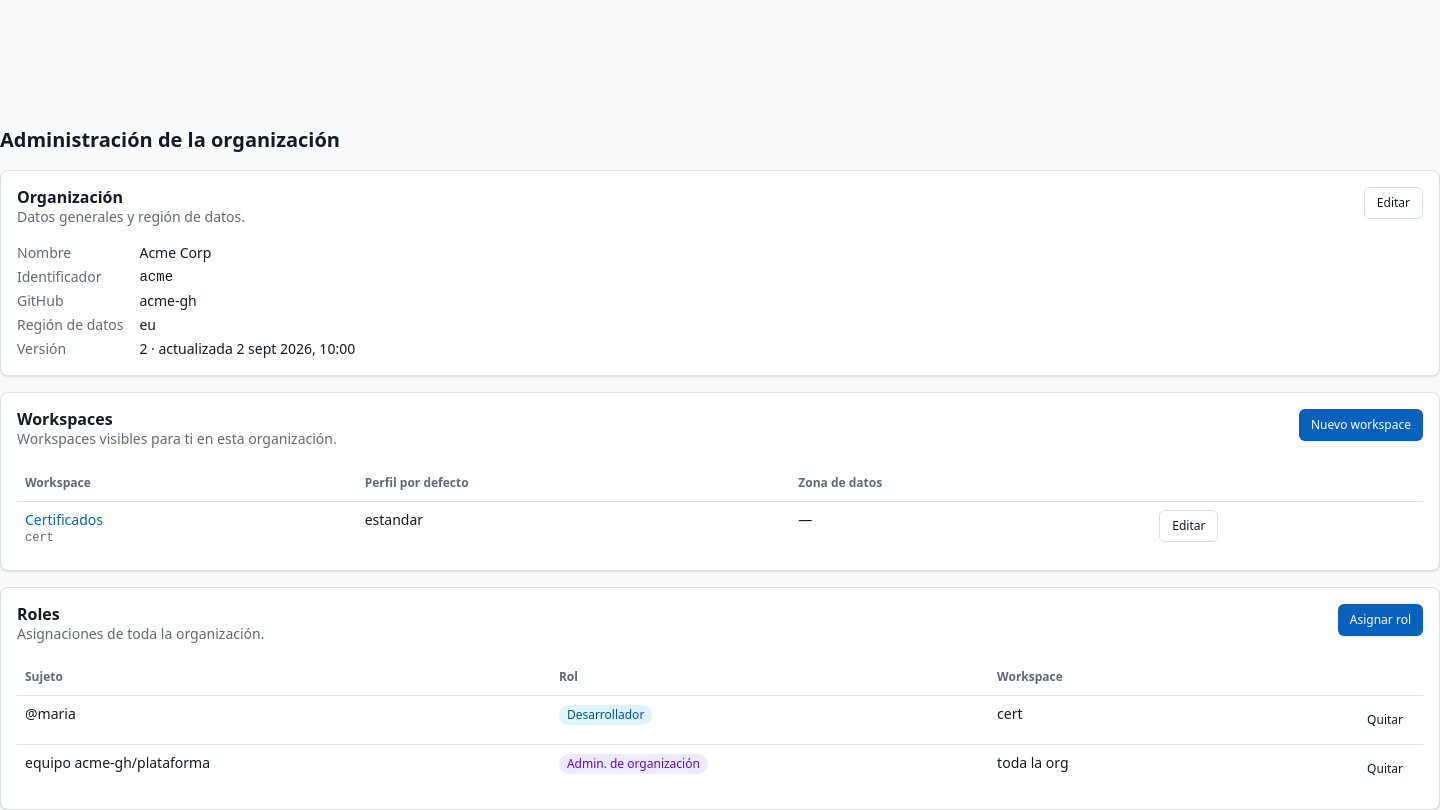
Scenario: administración de la organización › un org-admin crea un workspace y la lista lo refleja
The image size is (1440, 810).
(page scrolled)
Click the button "Nuevo workspace". click: (1361, 425)
box: 1299,409 -> 1423,441
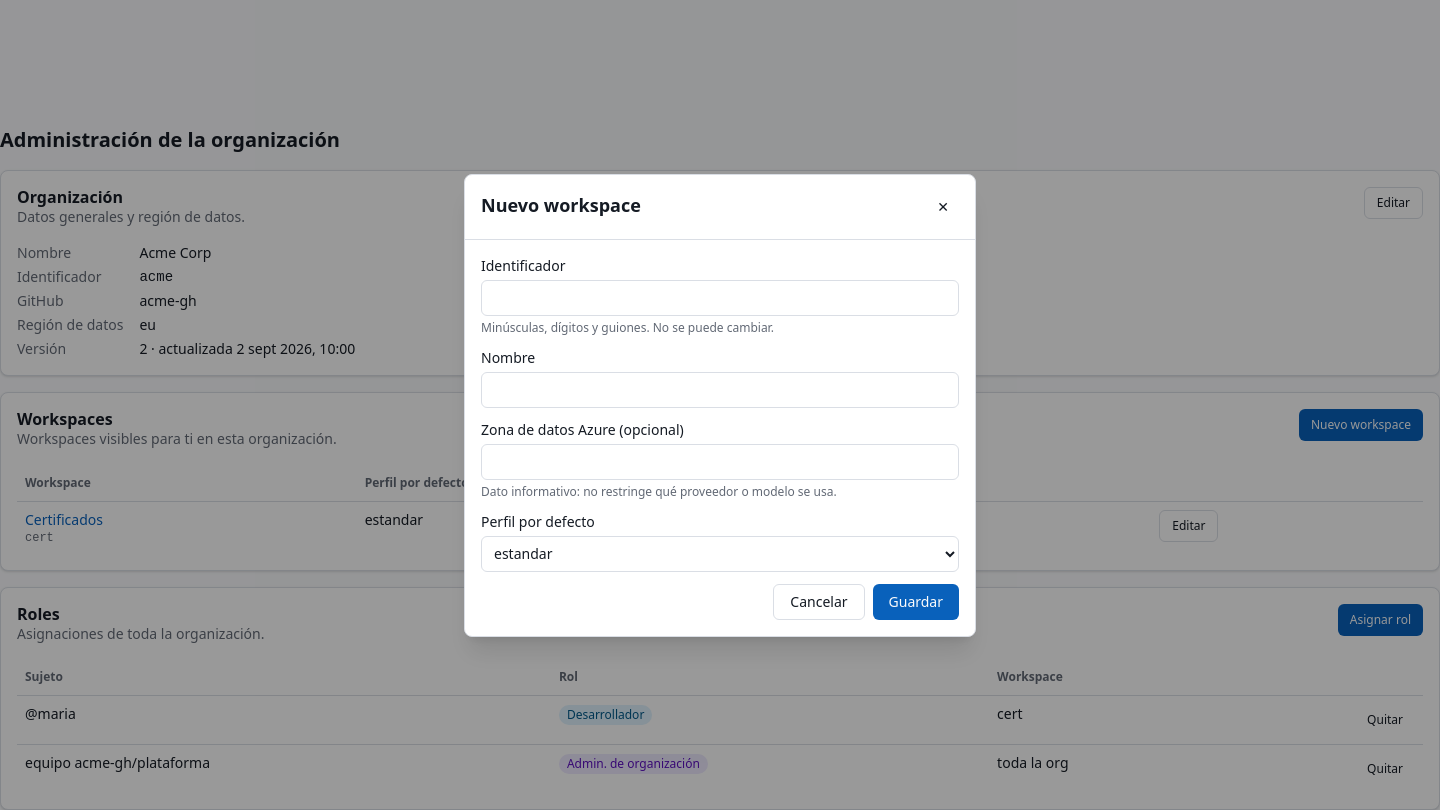
Type "firma" into the field labelled "Identificador". click: (720, 298)
box: 481,280 -> 959,316
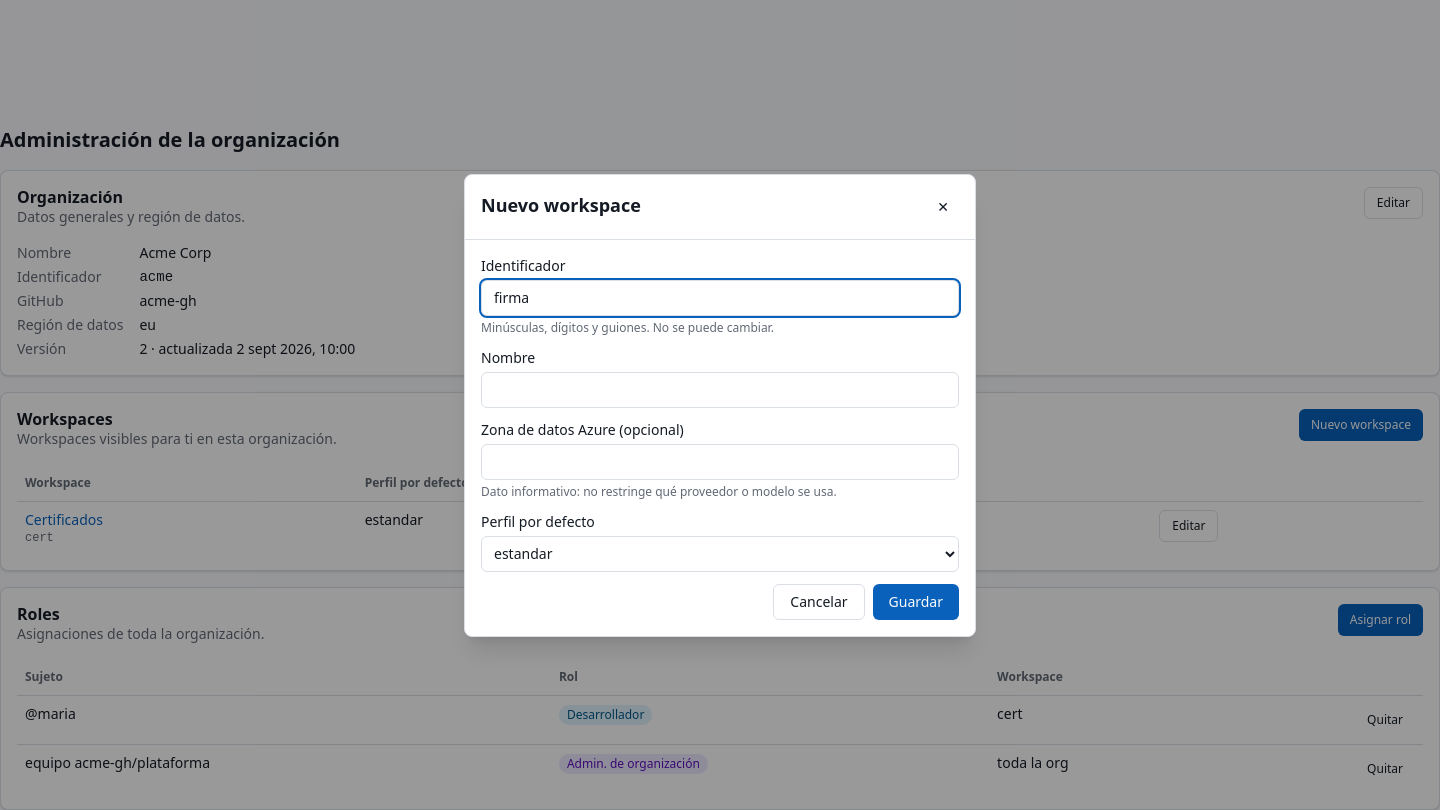
Type "Firma digital" into the field labelled "Nombre". click: (720, 390)
box: 481,372 -> 959,408
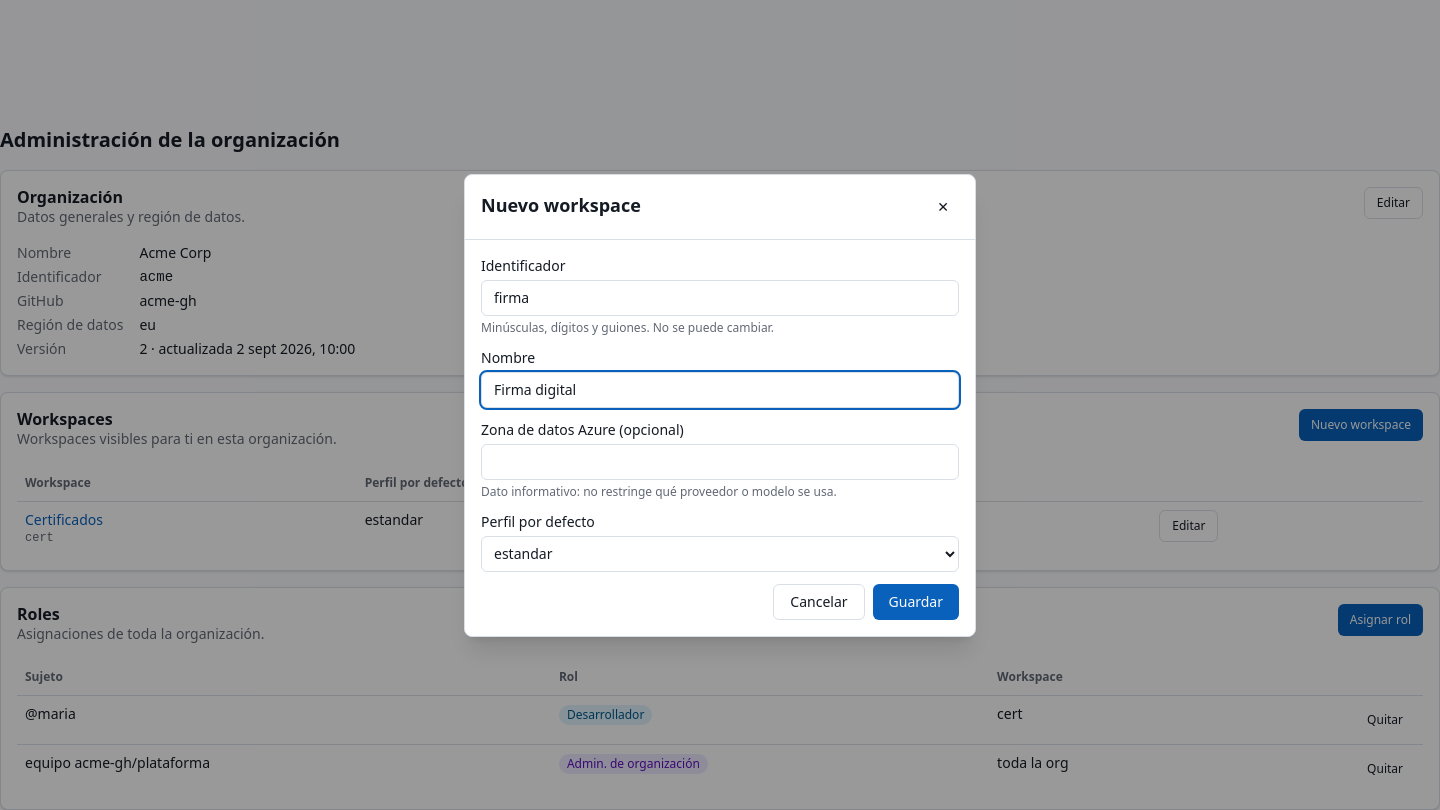
Type "westeurope" into the field labelled "Zona de datos Azure (opcional)". click: (720, 462)
box: 481,444 -> 959,480
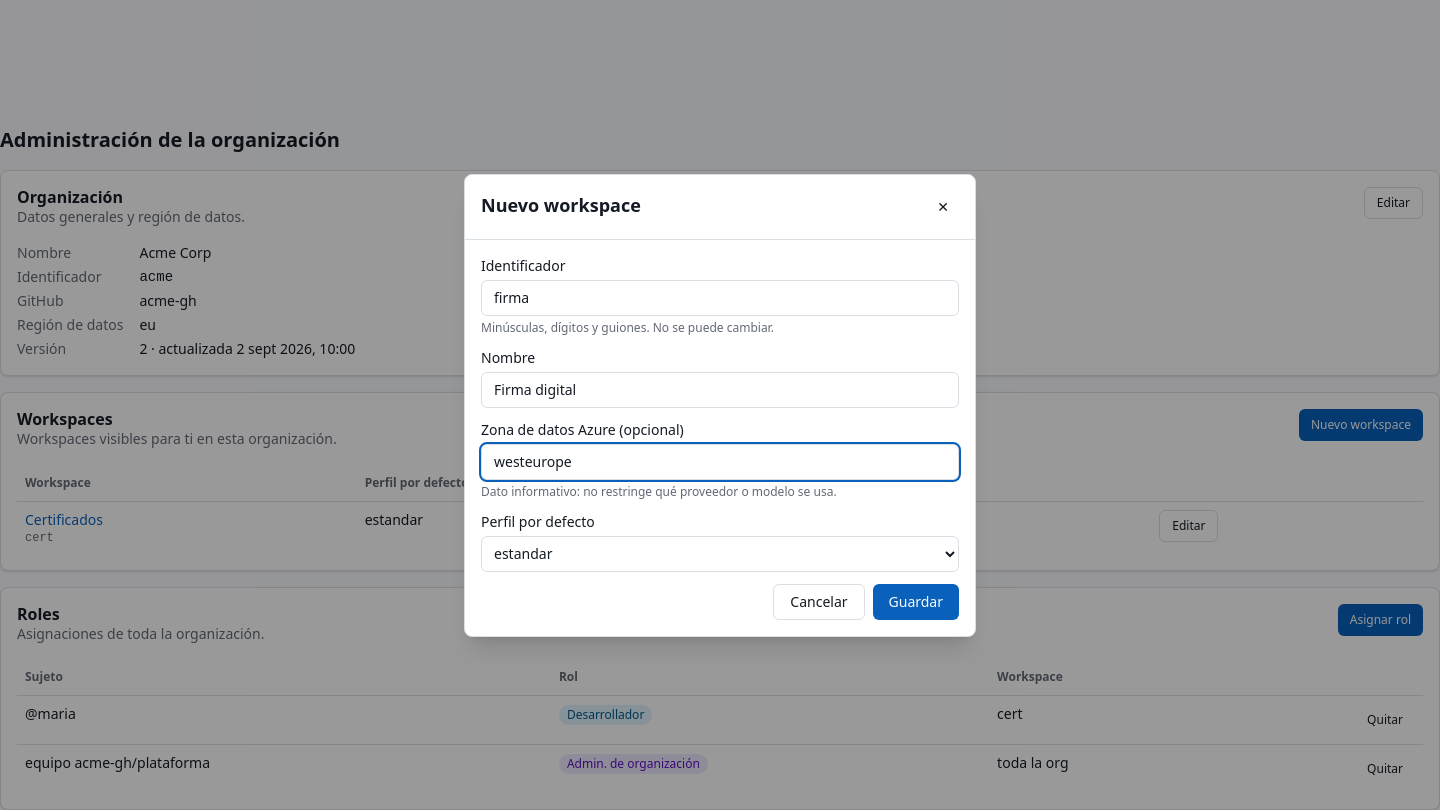
Select "profundo" in the dropdown labelled "Perfil por defecto". click: (720, 554)
box: 481,536 -> 959,572
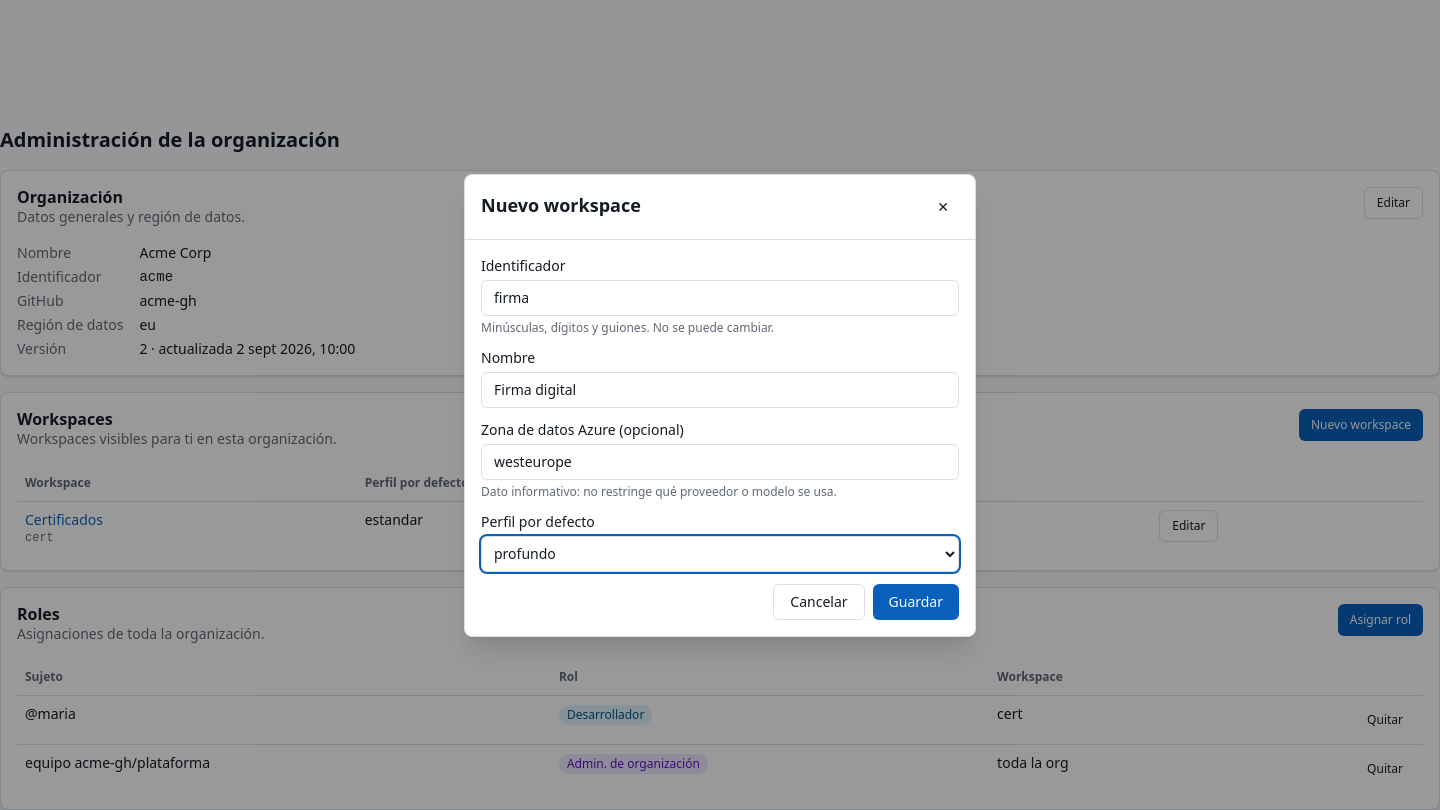
Click the button "Guardar". click: (916, 602)
box: 872,584 -> 959,620
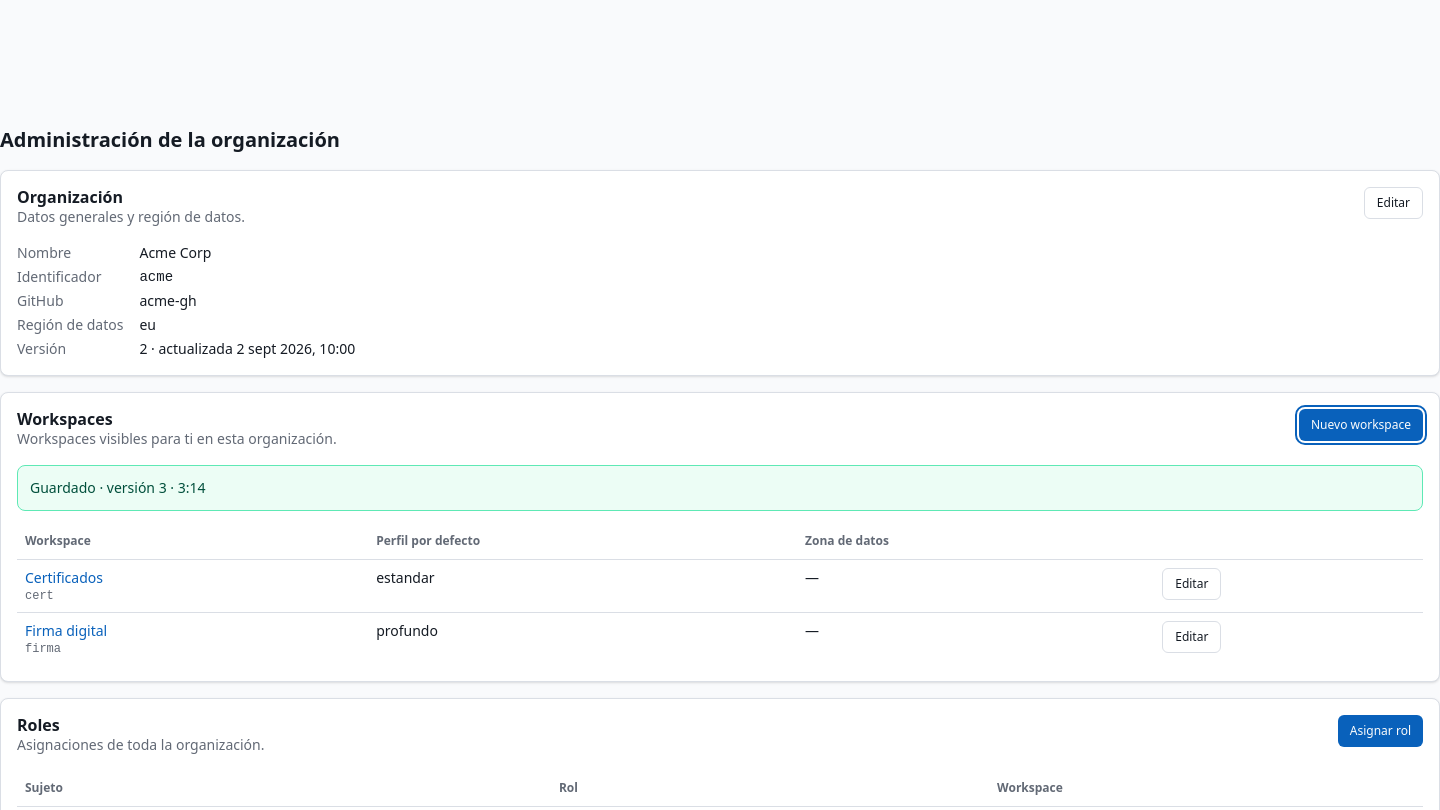
Now the link "Firma digital" is shown, box 25,620 -> 107,640
Now the dialog is gone
Now the text "Guardado · versión 3 · 3:14" is shown, box 17,465 -> 1423,511
